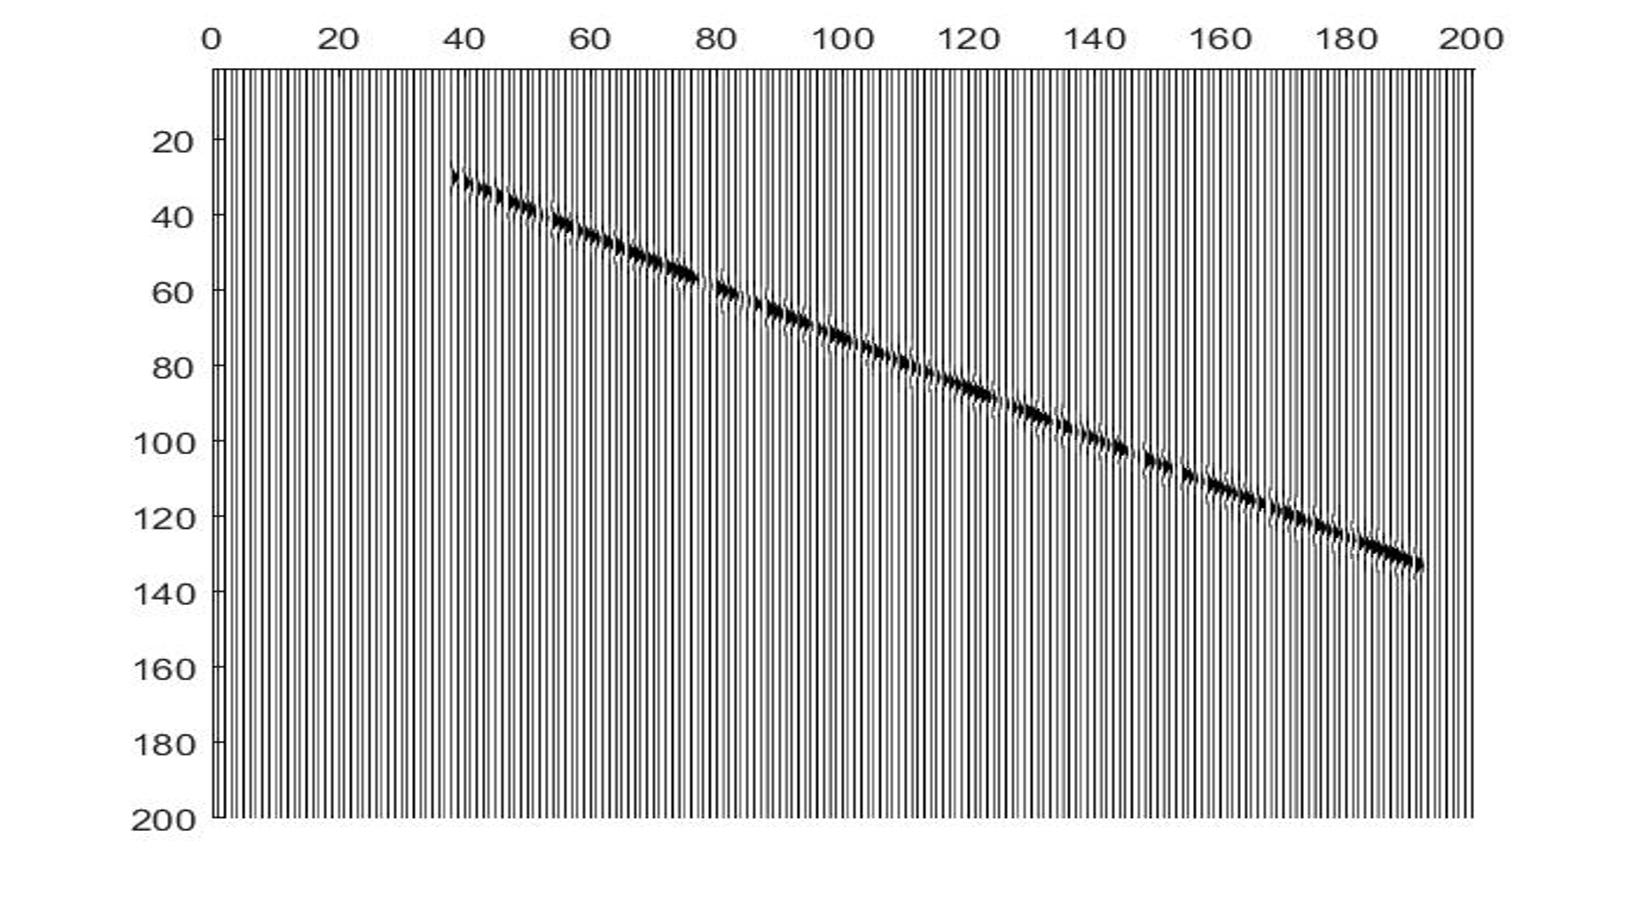signal: (439, 154, 1432, 580)
